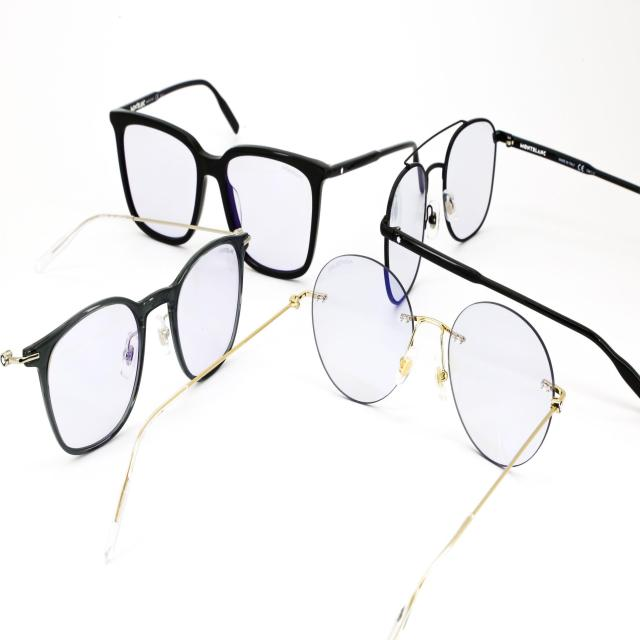glasses: (372, 101, 640, 403), (105, 69, 418, 281)
